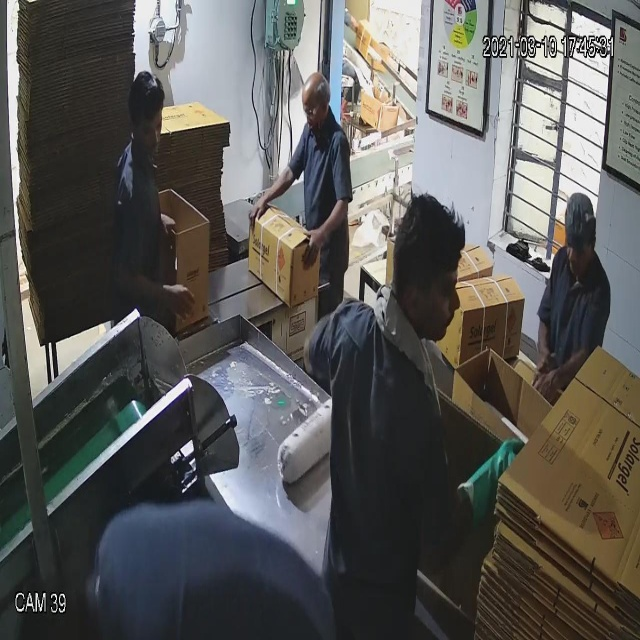Guantes: (461, 431, 533, 527)
Sin_guantes: (114, 244, 198, 332), (533, 333, 600, 411), (298, 195, 361, 271), (246, 164, 298, 239)
